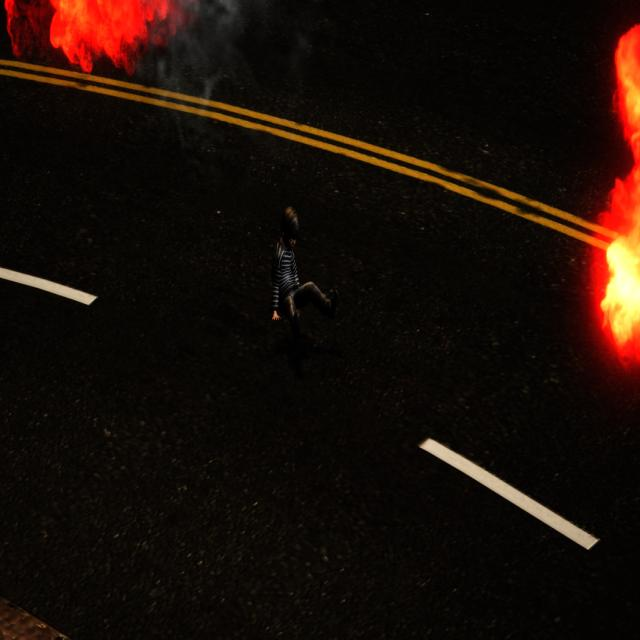Human: (264, 201, 342, 348)
